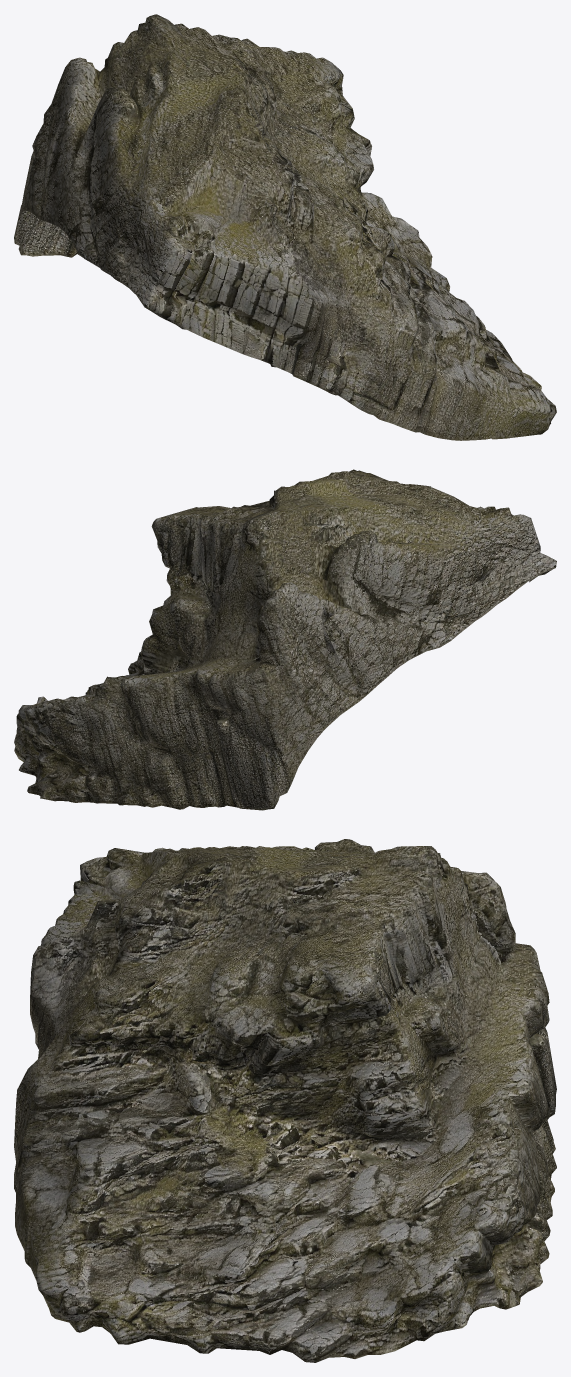
Rendered from rock4.glb.
3 renders of one model, top to bottom at view 1: azimuth 30°, elevation 25°; view 2: azimuth 150°, elevation 25°; view 3: azimuth 270°, elevation 25°, orthographic. The views are drawn at different scales.
Parts seen in each view (by area): view 1: tripo_node_6e509df9-b8c0-4876-805a-91b4882931cf; view 2: tripo_node_6e509df9-b8c0-4876-805a-91b4882931cf; view 3: tripo_node_6e509df9-b8c0-4876-805a-91b4882931cf.
Part boxes in pixels (x1,y1,x2,y2): tripo_node_6e509df9-b8c0-4876-805a-91b4882931cf: (14, 14, 556, 440); tripo_node_6e509df9-b8c0-4876-805a-91b4882931cf: (14, 469, 556, 810); tripo_node_6e509df9-b8c0-4876-805a-91b4882931cf: (14, 839, 556, 1362).
Size of the model in its own units: 0.998 by 0.7598 by 0.998.
Materials: 1 (1 with a texture image).
